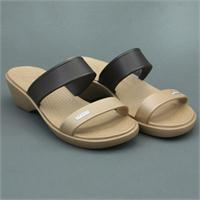shoe: (6, 56, 140, 150), (78, 48, 196, 138)
